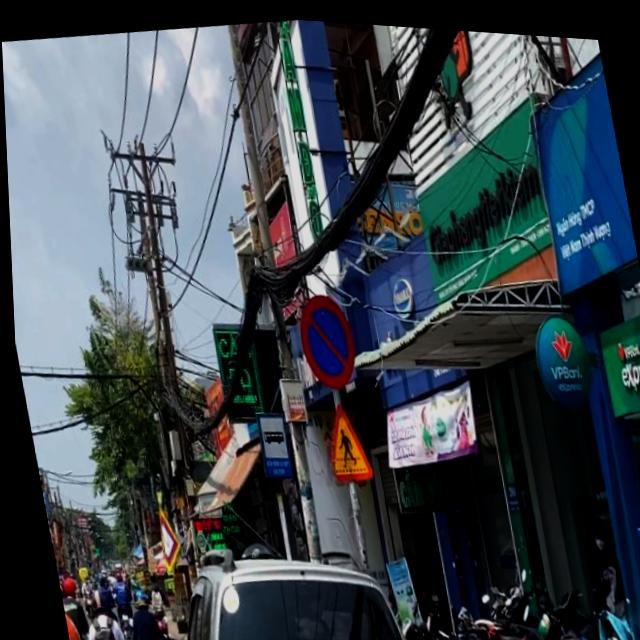Cam do xe: (290, 282, 361, 391)
Nguoi di bo cat ngang: (313, 390, 374, 487)
